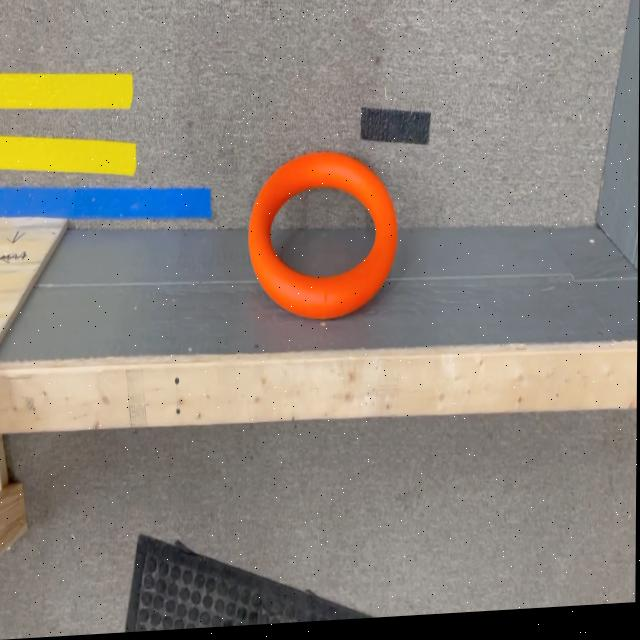note: (249, 153, 399, 326)
